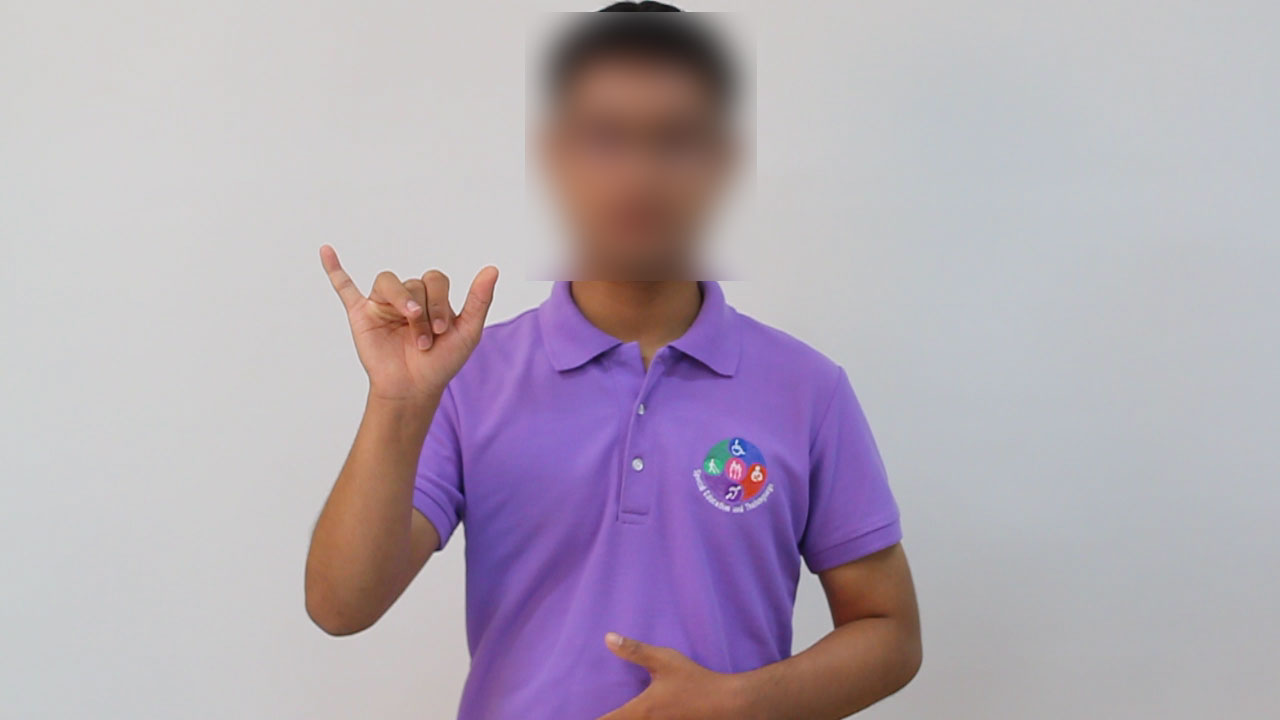yor: (310, 229, 508, 413)
